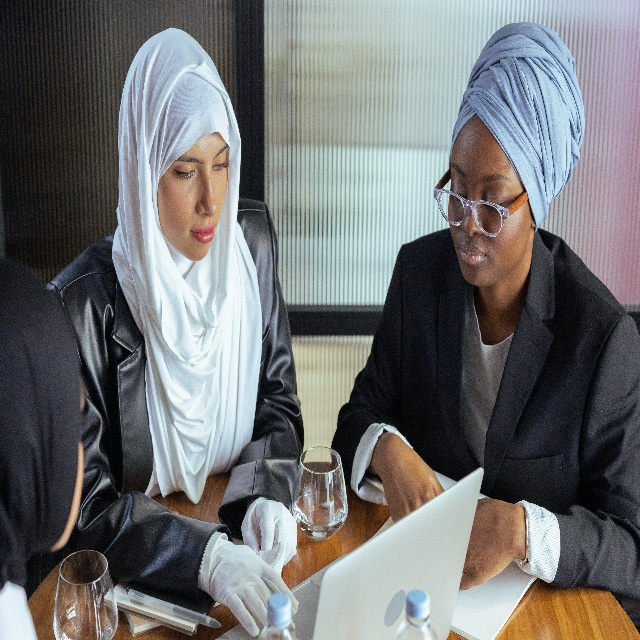Gafas: (433, 162, 530, 238)
Guantes: (210, 538, 299, 640), (241, 495, 299, 566)
Sin_guantes: (379, 430, 446, 527), (459, 492, 519, 590)
